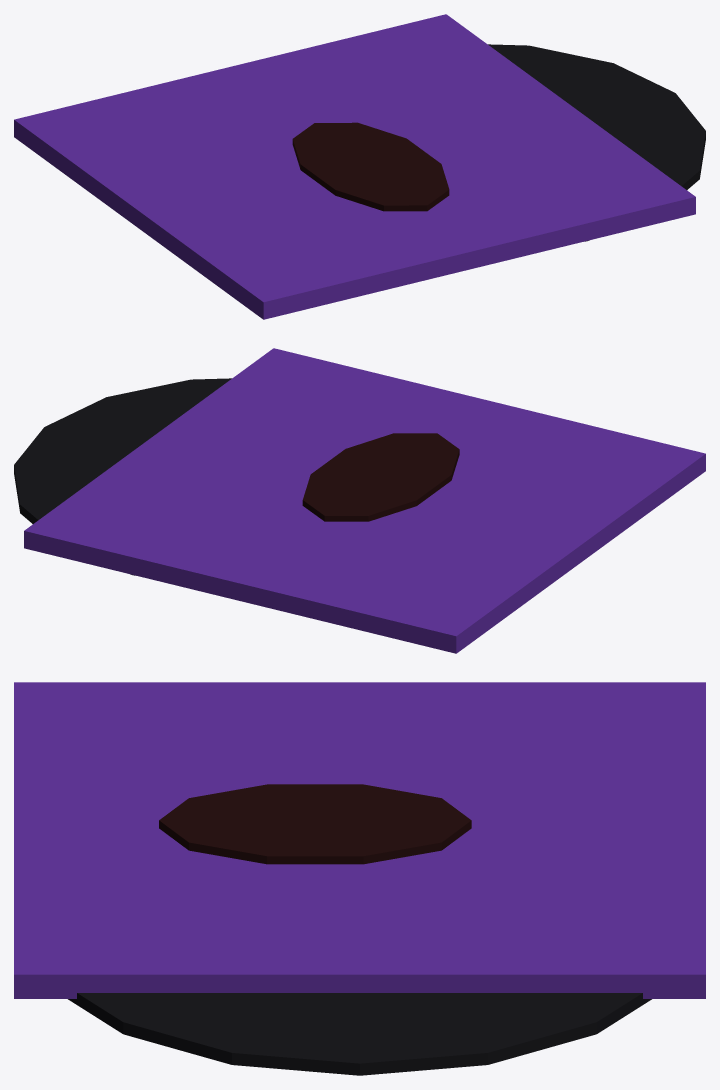
The model's file is scream_disc.glb.
3 views of the same model, one above another, from view 1: azimuth 30°, elevation 25°; view 2: azimuth 150°, elevation 25°; view 3: azimuth 270°, elevation 25° (orthographic). The views are drawn at different scales.
Visible parts, largest first — view 1: sleeve_sleeve_purple, disc_vinyl, mouth_mouth_black; view 2: sleeve_sleeve_purple, disc_vinyl, mouth_mouth_black; view 3: sleeve_sleeve_purple, disc_vinyl, mouth_mouth_black.
Boxes of the visible parts, box(x1,y1,x2,y2) form: sleeve_sleeve_purple: box(14, 14, 695, 319); disc_vinyl: box(488, 44, 705, 241); mouth_mouth_black: box(292, 122, 449, 211); sleeve_sleeve_purple: box(24, 348, 705, 653); disc_vinyl: box(14, 378, 231, 575); mouth_mouth_black: box(302, 433, 459, 521); sleeve_sleeve_purple: box(14, 682, 705, 998); disc_vinyl: box(68, 993, 651, 1075); mouth_mouth_black: box(159, 784, 471, 864).
Bounding box in the file's own units: 0.385 × 0.019 × 0.31.
